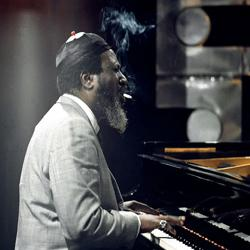cigarro: (120, 89, 136, 105)
fumador: (20, 15, 194, 250)
